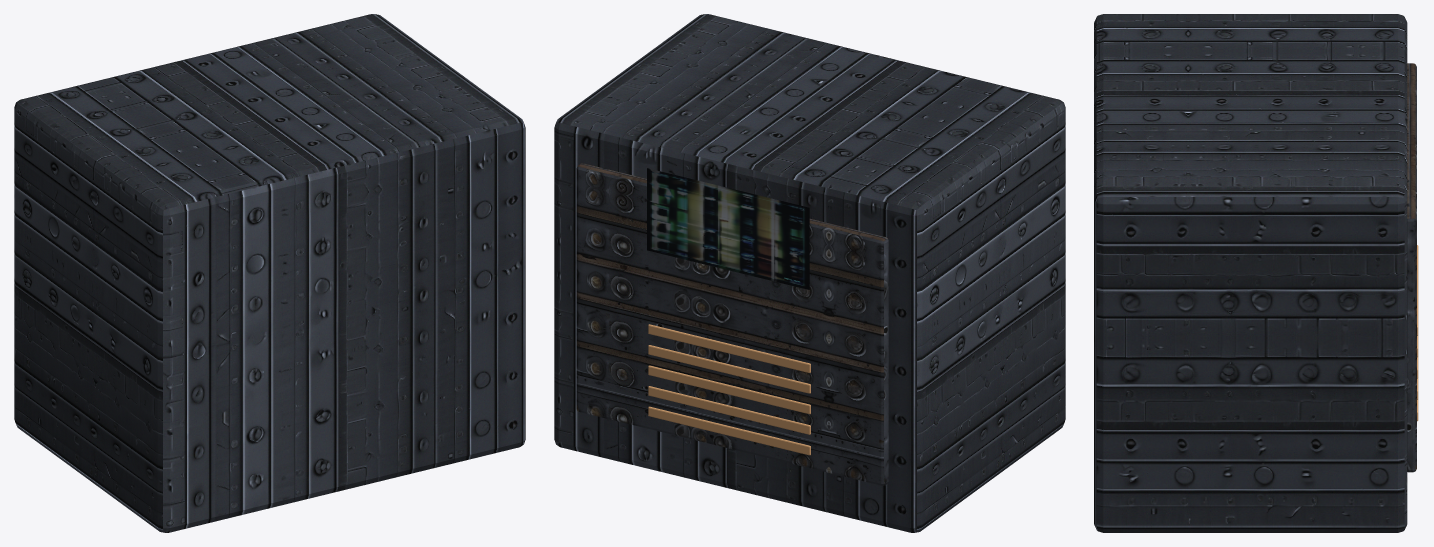
The model's file is device_transformer.glb.
The picture shows the model from 3 angles, left to right: view 1: azimuth 30°, elevation 25°; view 2: azimuth 150°, elevation 25°; view 3: azimuth 270°, elevation 25°; orthographic projection. The views are drawn at different scales.
Parts seen in each view (by area): view 1: cabinet; view 2: cabinet, front, display, vent_0, vent_1, vent_2, vent_3, vent_4; view 3: cabinet, front.
Boxes of the visible parts, x1=… form: cabinet: x1=14, y1=14, x2=525, y2=532; cabinet: x1=554, y1=14, x2=1065, y2=532; front: x1=576, y1=163, x2=888, y2=485; display: x1=647, y1=168, x2=809, y2=289; vent_0: x1=648, y1=406, x2=810, y2=455; vent_1: x1=648, y1=386, x2=810, y2=434; vent_2: x1=648, y1=365, x2=810, y2=414; vent_3: x1=648, y1=345, x2=810, y2=393; vent_4: x1=648, y1=324, x2=810, y2=372; cabinet: x1=1094, y1=14, x2=1407, y2=532; front: x1=1407, y1=63, x2=1416, y2=472.
Bounding box in the file's own units: 1.4 × 1.2 × 1.04.
4 materials, 3 textured.
